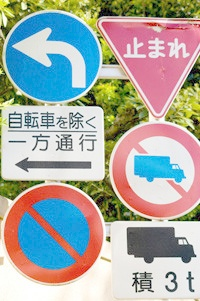Prohibition_sign: (1, 183, 110, 285)
